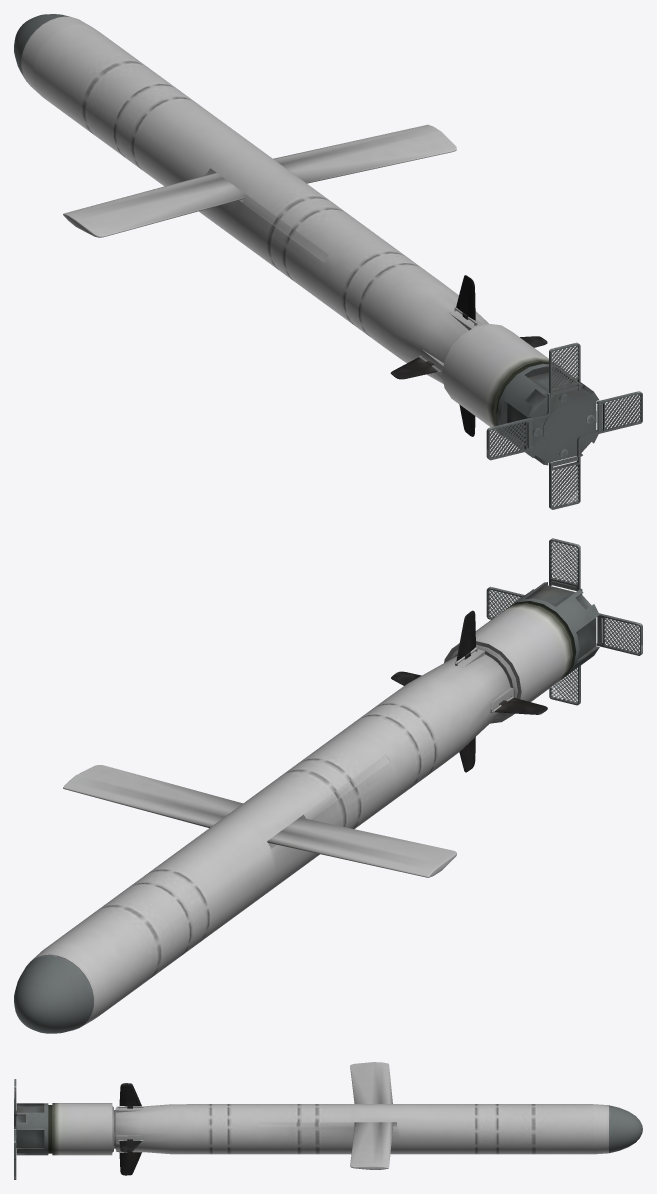
The model's file is w_kalibr.glb.
3 renders of one model, top to bottom at view 1: azimuth 30°, elevation 25°; view 2: azimuth 150°, elevation 25°; view 3: azimuth 270°, elevation 25°, orthographic. The views are drawn at different scales.
Parts seen in each view (by area): view 1: body|kalibr_01_kalibr; view 2: body|kalibr_01_kalibr; view 3: body|kalibr_01_kalibr.
Boxes of the visible parts, left/top/right/bottom form: body|kalibr_01_kalibr: left=14, top=14, right=642, bottom=509; body|kalibr_01_kalibr: left=14, top=538, right=642, bottom=1033; body|kalibr_01_kalibr: left=14, top=1062, right=642, bottom=1179.
Size of the model in its own units: 2.44 by 1.02 by 6.22.
1 material, 1 textured.
